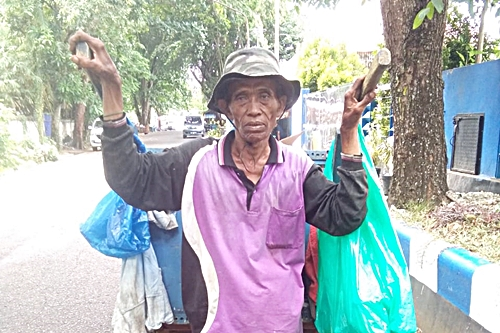pemulung: (59, 24, 417, 333)
